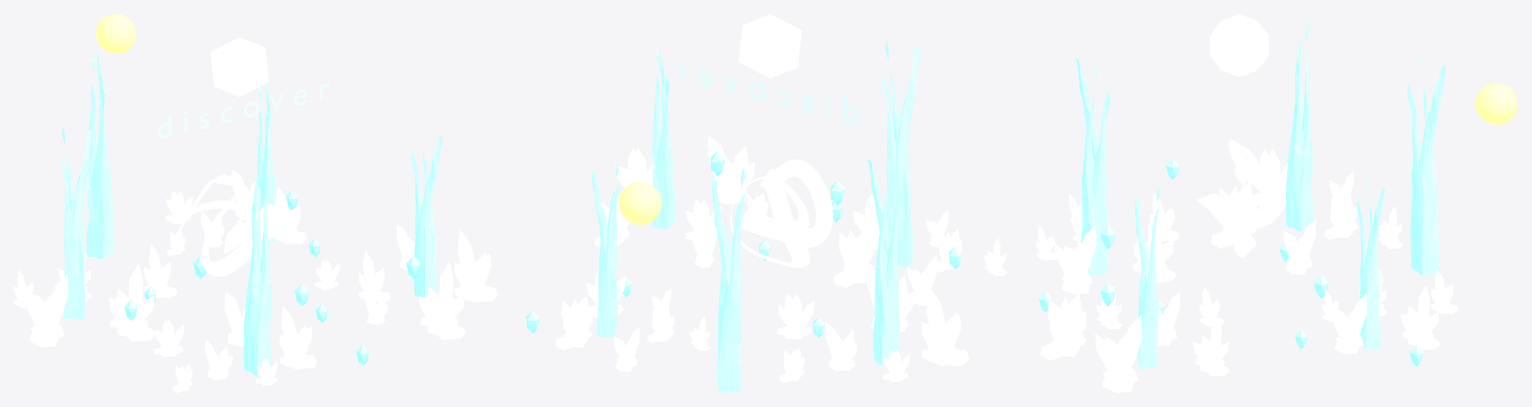
Rendered from asset.glb.
The picture shows the model from 3 angles, left to right: view 1: azimuth 30°, elevation 25°; view 2: azimuth 150°, elevation 25°; view 3: azimuth 270°, elevation 25°; orthographic projection. The views are drawn at different scales.
Visible parts, largest first — view 1: Icosphere.004, Icosphere.013, Icosphere.001, Cube.001, Cube.003, BezierCurve, Cube.004, Icosphere.002, Cube.002, Icosphere.009, Cube, Sphere (+1 smaller); view 2: Icosphere.013, BezierCurve, Icosphere.004, Icosphere.001, Cube.003, Cube.001, Icosphere.002, Cube.004, Icosphere.009, Cube, Cube.002, Sphere (+1 smaller); view 3: Icosphere.004, Icosphere.013, Cube.003, Icosphere.001, Icosphere.002, Cube.001, BezierCurve, Cube.004, Icosphere.009, Cube.002, Cube, Sphere.
Part boxes in pixels (x1,y1,x2,y2): Icosphere.004: [315, 224, 497, 339]; Icosphere.013: [14, 244, 176, 346]; Icosphere.001: [154, 292, 316, 392]; Cube.001: [243, 161, 271, 376]; Cube.003: [86, 48, 113, 258]; BezierCurve: [175, 174, 285, 276]; Cube.004: [60, 126, 91, 320]; Icosphere.002: [165, 169, 306, 255]; Cube.002: [411, 126, 442, 297]; Icosphere.009: [210, 37, 269, 96]; Cube: [256, 83, 277, 244]; Sphere: [96, 14, 135, 53]; Icosphere.013: [777, 265, 969, 382]; BezierCurve: [730, 159, 832, 267]; Icosphere.004: [594, 135, 768, 267]; Icosphere.001: [833, 194, 1007, 305]; Cube.003: [711, 168, 745, 392]; Cube.001: [882, 40, 920, 266]; Icosphere.002: [555, 270, 710, 371]; Cube.004: [868, 159, 903, 365]; Icosphere.009: [738, 14, 801, 78]; Cube: [591, 163, 620, 336]; Cube.002: [652, 44, 674, 229]; Sphere: [618, 182, 661, 224]; Icosphere.004: [1040, 285, 1229, 392]; Icosphere.013: [1211, 148, 1402, 274]; Cube.003: [1407, 51, 1445, 276]; Icosphere.001: [1036, 192, 1179, 294]; Icosphere.002: [1322, 269, 1458, 354]; Cube.001: [1076, 58, 1110, 276]; BezierCurve: [1197, 139, 1285, 258]; Cube.004: [1286, 22, 1313, 231]; Icosphere.009: [1209, 14, 1268, 76]; Cube.002: [1134, 187, 1160, 368]; Cube: [1356, 176, 1384, 350]; Sphere: [1475, 83, 1517, 124].
Size of the model in its own units: 45 by 29.8 by 45.14.
